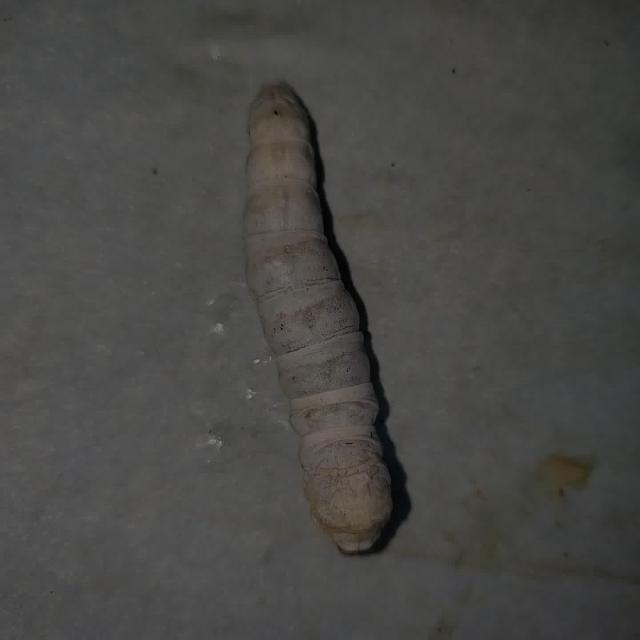Grasserie: (190, 55, 501, 578)
